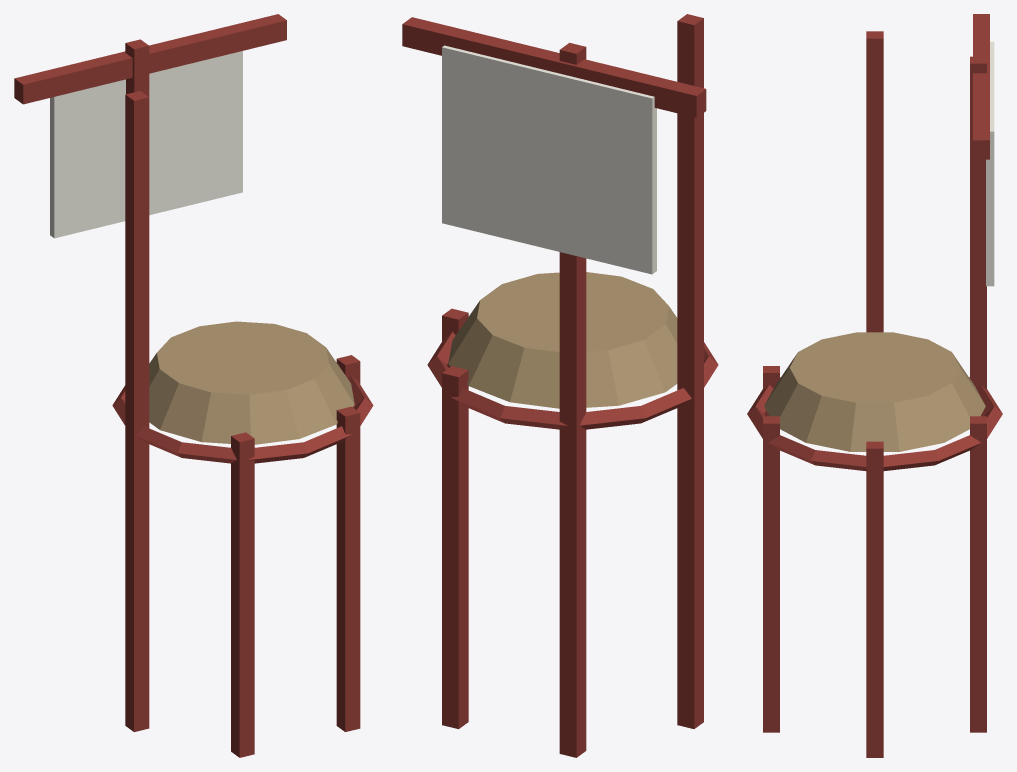
The model's file is cn_washstand.glb.
The picture shows the model from 3 angles, left to right: view 1: azimuth 30°, elevation 25°; view 2: azimuth 150°, elevation 25°; view 3: azimuth 270°, elevation 25°; orthographic projection. The views are drawn at different scales.
Visible parts, largest first — view 1: cn_washstand; view 2: cn_washstand; view 3: cn_washstand.
Boxes of the visible parts, x1=… form: cn_washstand: x1=14, y1=14, x2=373, y2=757; cn_washstand: x1=402, y1=14, x2=718, y2=757; cn_washstand: x1=747, y1=14, x2=1002, y2=757.
Bounding box in the file's own units: 0.7501 × 1.6 × 0.6001.
